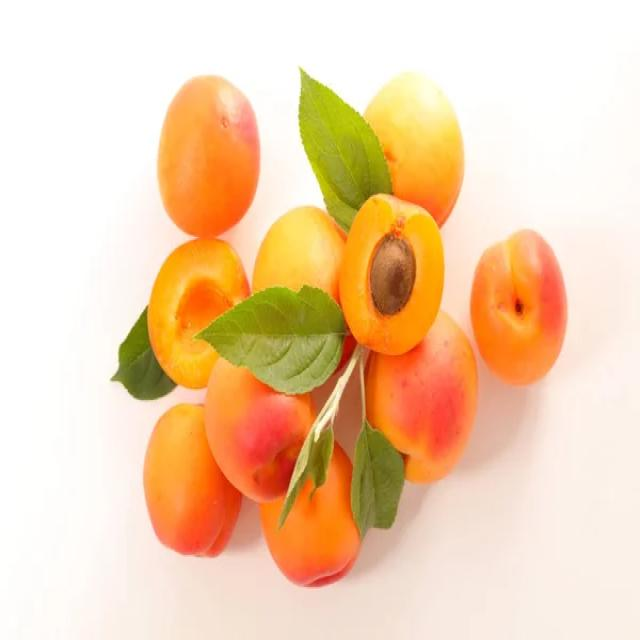kayisi: (140, 84, 292, 230)
kayisi-cekirdegi: (371, 231, 423, 320)
kayisi-yapragi: (198, 276, 354, 397), (298, 55, 390, 202), (348, 415, 406, 536)
